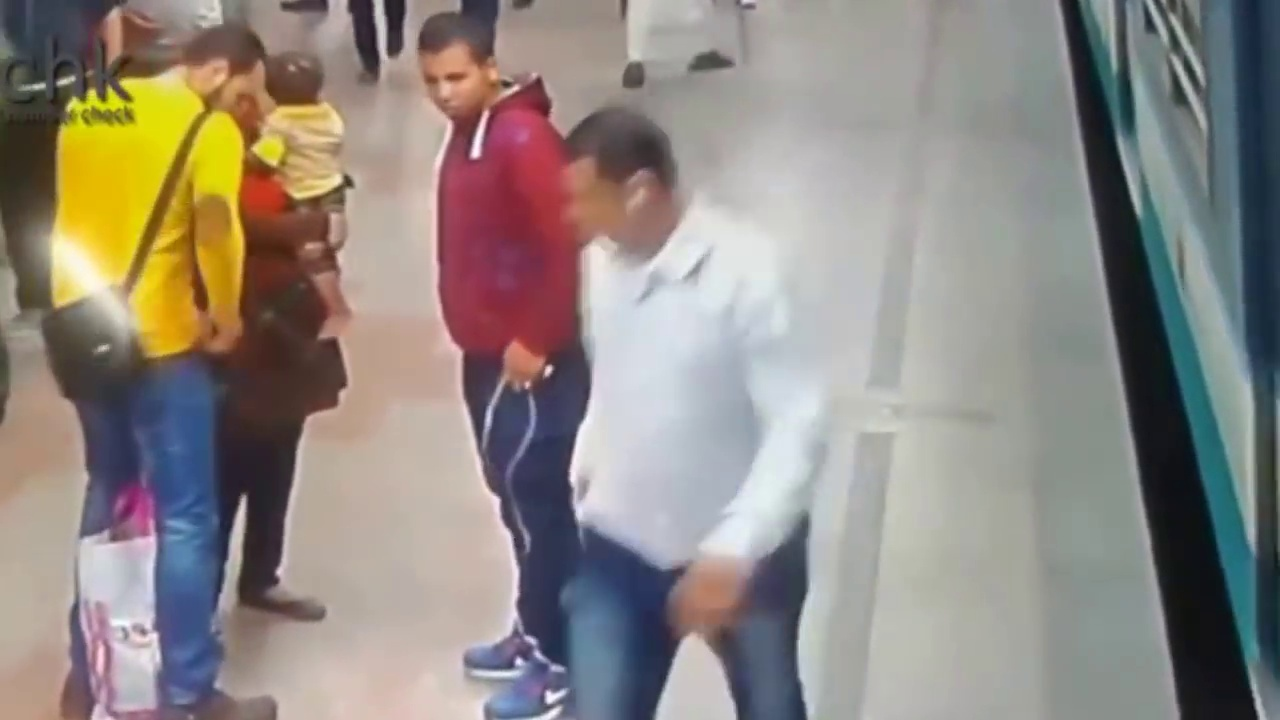face: (559, 151, 618, 247), (421, 44, 480, 123), (220, 58, 262, 115)
